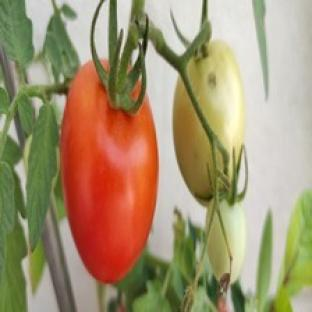Tomato: (60, 62, 158, 282), (187, 41, 245, 178), (208, 200, 246, 282)
